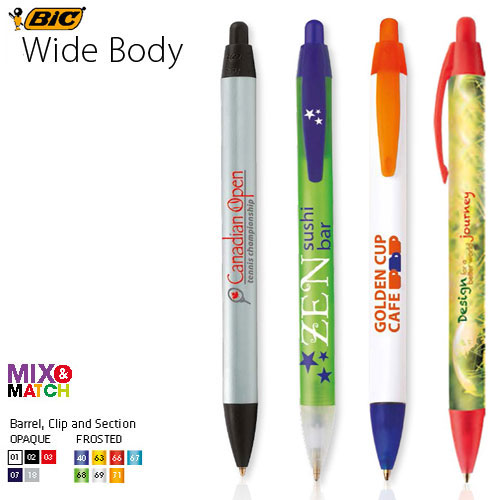Boligrafo: (433, 11, 493, 487), (365, 15, 414, 485), (293, 15, 341, 486), (218, 16, 264, 480)
